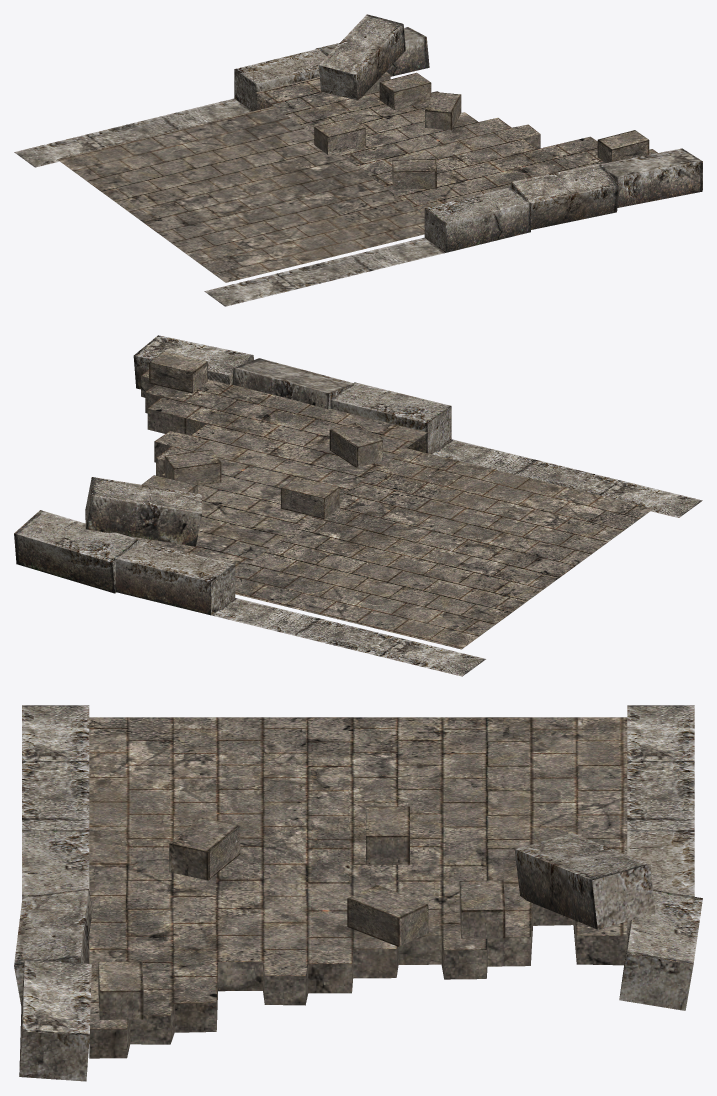
The model's file is RoadBrick_end1.fbx.
3 renders of one model, top to bottom at view 1: azimuth 30°, elevation 25°; view 2: azimuth 150°, elevation 25°; view 3: azimuth 270°, elevation 25°, orthographic. The views are drawn at different scales.
Parts seen in each view (by area): view 1: polySurface612; view 2: polySurface612; view 3: polySurface612.
Boxes of the visible parts, left/top/right/bottom form: polySurface612: left=14, top=14, right=702, bottom=306; polySurface612: left=14, top=335, right=702, bottom=676; polySurface612: left=14, top=705, right=702, bottom=1081.
Bounding box in the file's own units: 2.62 × 0.3595 × 2.05.
